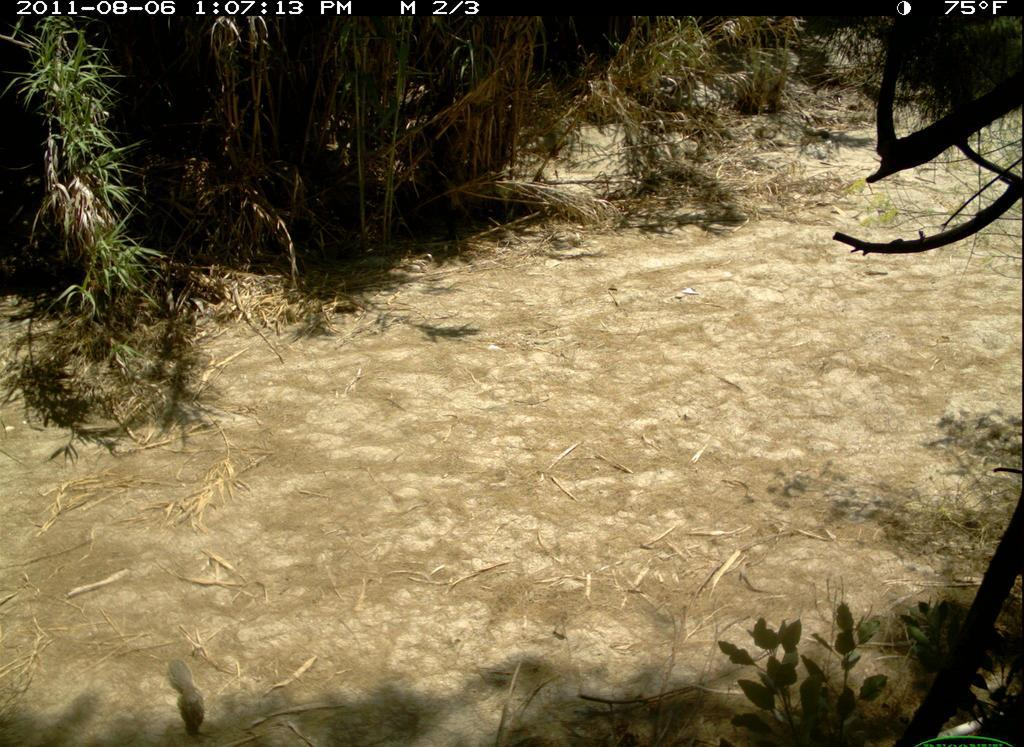squirrel: (161, 646, 222, 746)
